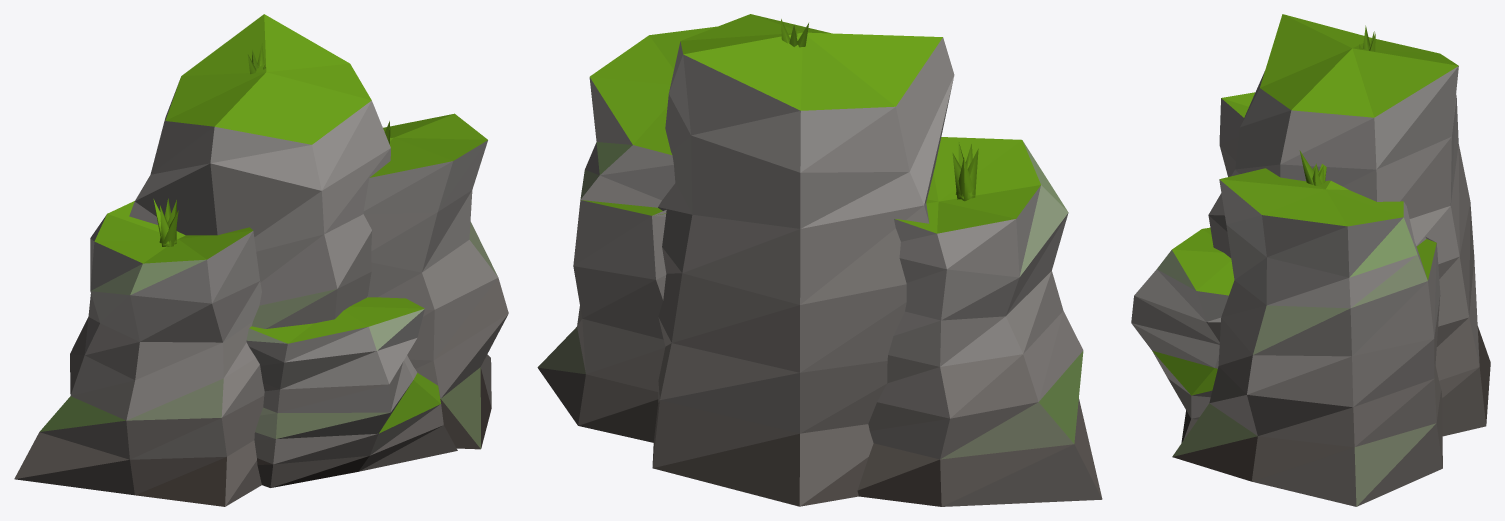
The model's file is batu_cliff_limestone_753790.glb.
3 renders of one model, left to right at view 1: azimuth 30°, elevation 25°; view 2: azimuth 150°, elevation 25°; view 3: azimuth 270°, elevation 25°, orthographic. The views are drawn at different scales.
Parts seen in each view (by area): view 1: Tebing_Sungai_Curam; view 2: Tebing_Sungai_Curam; view 3: Tebing_Sungai_Curam.
Boxes of the visible parts, x1,y1,x2,y2 form: Tebing_Sungai_Curam: (14,14,508,506); Tebing_Sungai_Curam: (537,14,1102,506); Tebing_Sungai_Curam: (1131,14,1490,506).
Bounding box in the file's own units: 8.04 × 5.8 × 5.14.
